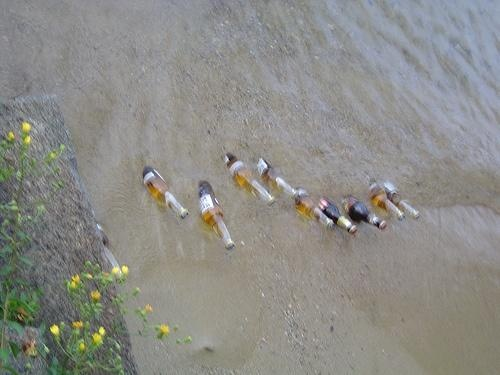bottle: (221, 153, 277, 206), (199, 182, 236, 250), (144, 167, 190, 220), (257, 156, 298, 200), (295, 188, 336, 232), (342, 195, 388, 232), (317, 197, 358, 234), (387, 186, 420, 220), (371, 189, 405, 221)
